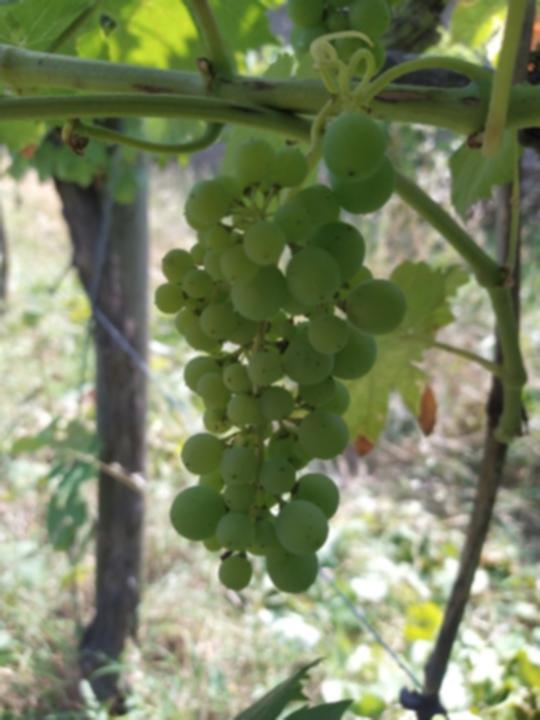grape: (151, 103, 410, 597)
